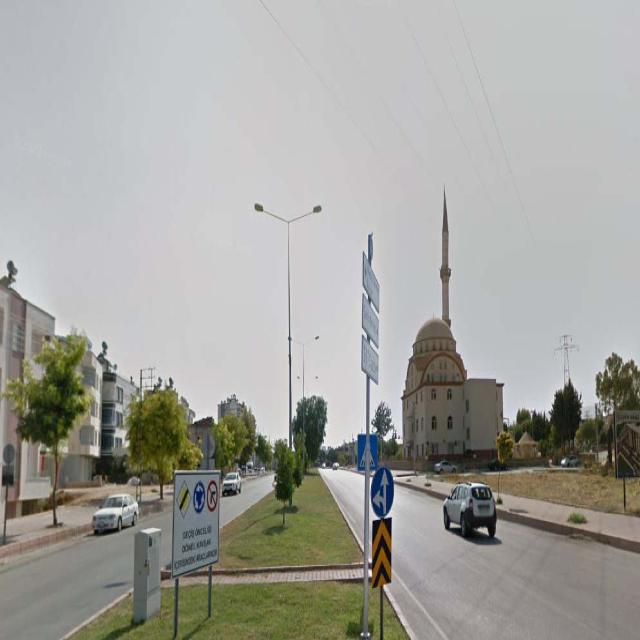ilerisol: (371, 466, 395, 516)
